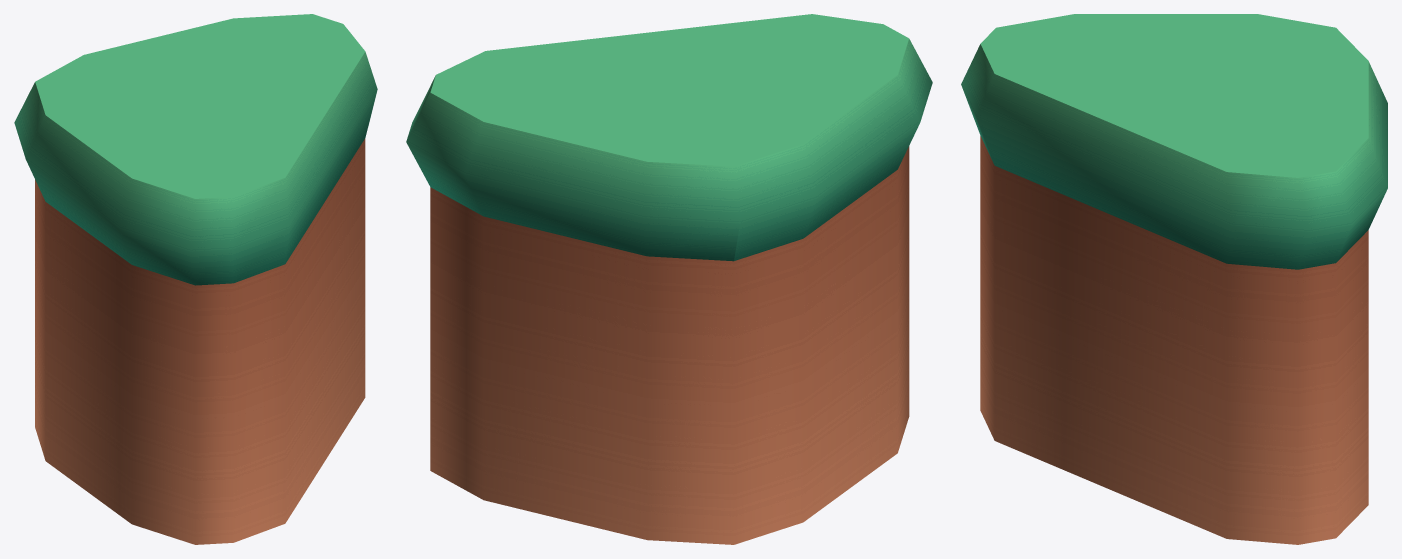
Rendered from block-grass-corner.glb.
The picture shows the model from 3 angles, left to right: view 1: azimuth 30°, elevation 25°; view 2: azimuth 150°, elevation 25°; view 3: azimuth 270°, elevation 25°; orthographic projection. The views are drawn at different scales.
Parts seen in each view (by area): view 1: block-grass-corner; view 2: block-grass-corner; view 3: block-grass-corner.
Part boxes in pixels (x1,y1,x2,y2): block-grass-corner: (14,14,377,544); block-grass-corner: (406,14,932,544); block-grass-corner: (961,14,1387,544).
Bounding box in the file's own units: 1.05 × 1 × 1.05.
1 material, 1 textured.
